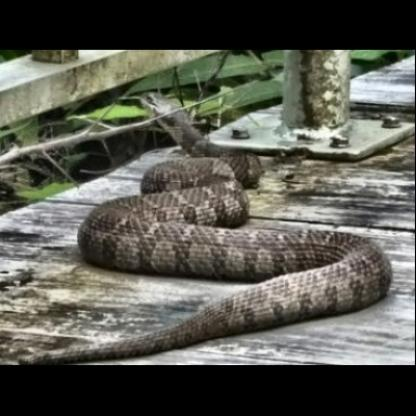Snake: (3, 118, 408, 356)
